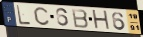6: (55, 7, 70, 28), (111, 12, 127, 31)
B: (71, 8, 90, 29)
C: (33, 7, 50, 27)
H: (91, 9, 112, 32)
L: (16, 5, 32, 26)
